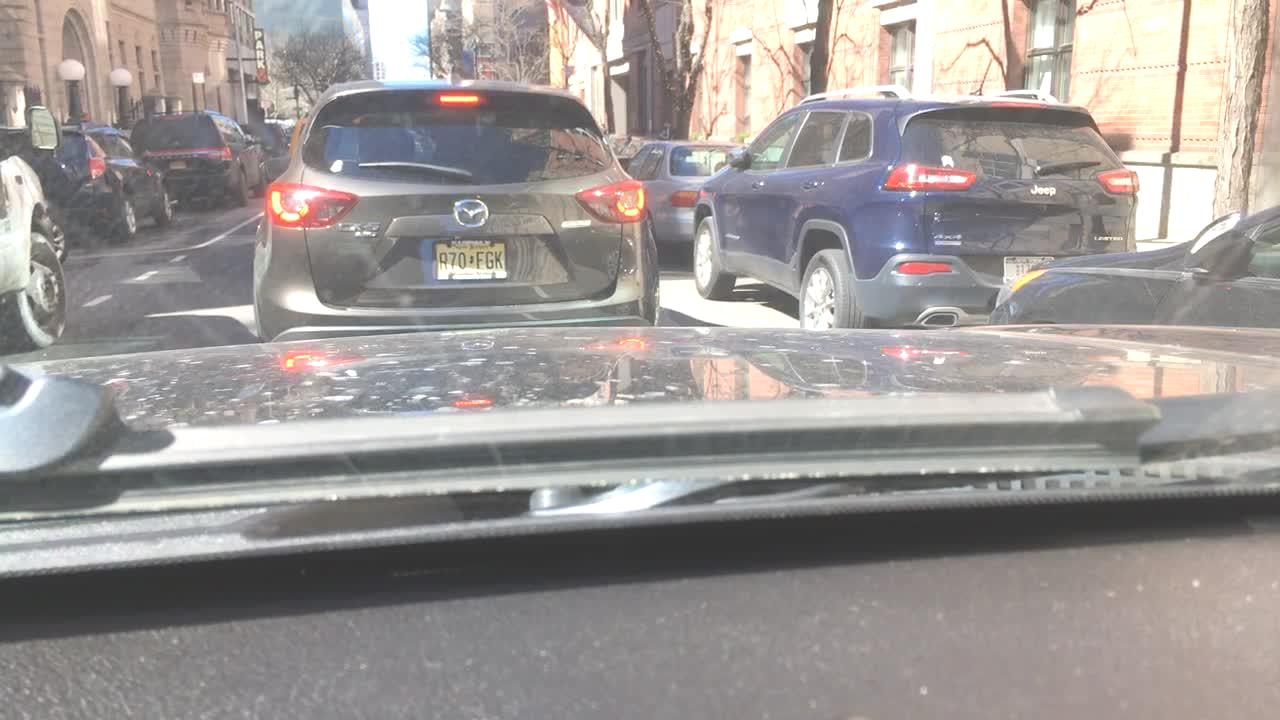Mazda: (449, 196, 491, 234)
jeep: (1026, 180, 1063, 204)
